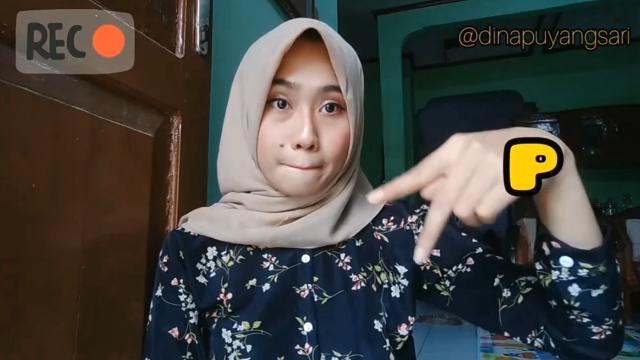P: (368, 136, 570, 264)
